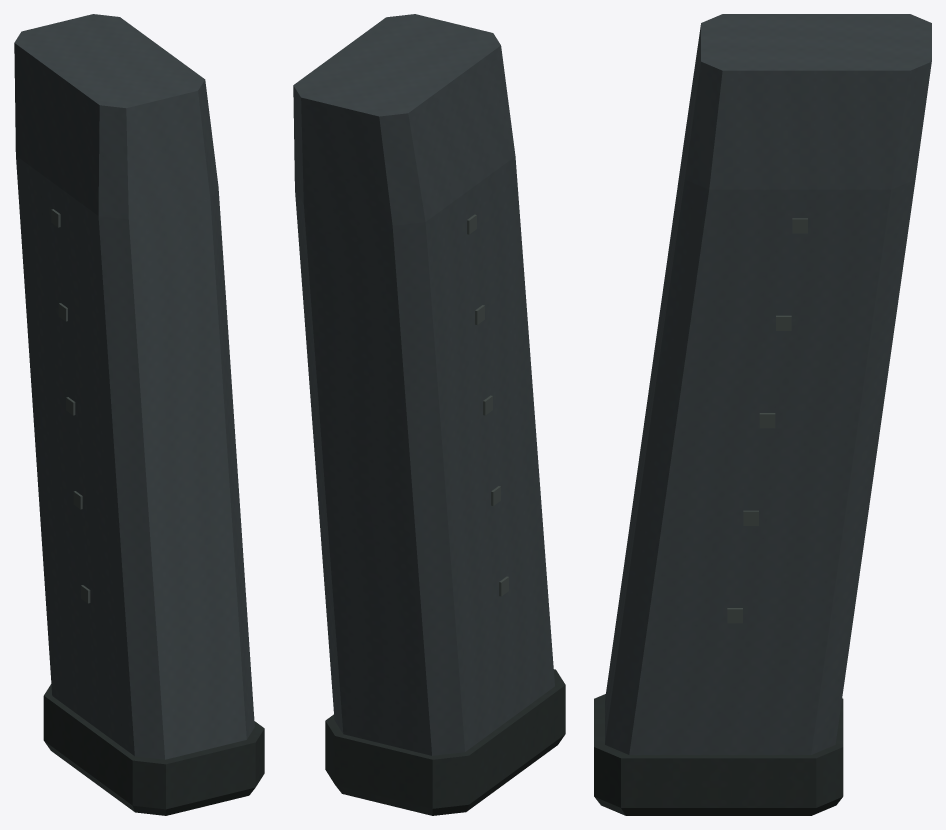
3 renders of one model, left to right at view 1: azimuth 30°, elevation 25°; view 2: azimuth 150°, elevation 25°; view 3: azimuth 270°, elevation 25°, orthographic. The views are drawn at different scales.
Visible parts, largest first — view 1: pm_8_individual_shell, pm_8_individual_shell.001, pm_8_floorplate, pm_8_witness_inset; view 2: pm_8_individual_shell, pm_8_individual_shell.001, pm_8_floorplate, pm_8_witness_inset; view 3: pm_8_individual_shell, pm_8_individual_shell.001, pm_8_floorplate, pm_8_witness_inset.
Boxes of the visible parts, x1=… form: pm_8_individual_shell: x1=14, y1=14, x2=254, y2=759; pm_8_individual_shell.001: x1=23, y1=91, x2=254, y2=759; pm_8_floorplate: x1=43, y1=684, x2=264, y2=815; pm_8_witness_inset: x1=51, y1=209, x2=90, y2=603; pm_8_individual_shell: x1=293, y1=14, x2=554, y2=755; pm_8_individual_shell.001: x1=301, y1=97, x2=554, y2=755; pm_8_floorplate: x1=325, y1=669, x2=565, y2=815; pm_8_witness_inset: x1=467, y1=214, x2=508, y2=596; pm_8_individual_shell: x1=605, y1=14, x2=931, y2=754; pm_8_individual_shell.001: x1=605, y1=25, x2=898, y2=754; pm_8_floorplate: x1=594, y1=694, x2=843, y2=815; pm_8_witness_inset: x1=727, y1=218, x2=807, y2=623.
Size of the model in its own units: 0.0429 by 0.209 by 0.0864.
3 materials, 2 textured.
